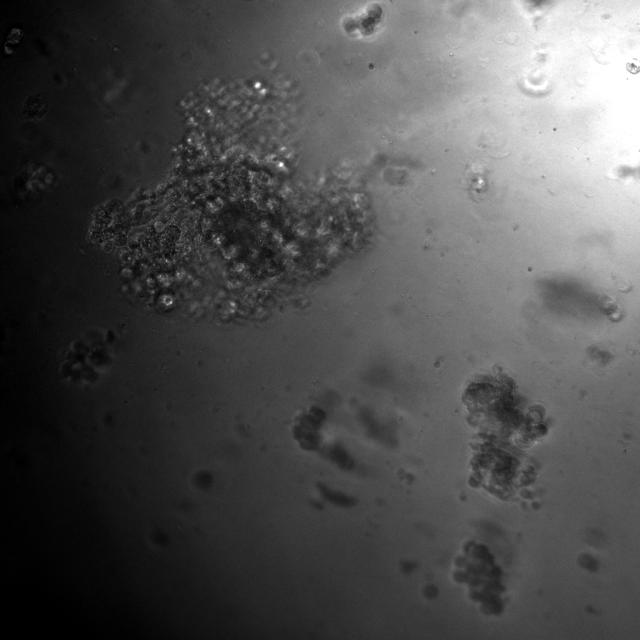organoid: (86, 75, 372, 319), (461, 364, 548, 509), (292, 404, 354, 470), (453, 540, 506, 614), (341, 2, 385, 39), (316, 481, 358, 507), (462, 162, 489, 201), (599, 295, 622, 321), (577, 552, 599, 572), (193, 470, 212, 490), (422, 584, 439, 598), (626, 58, 639, 75)
